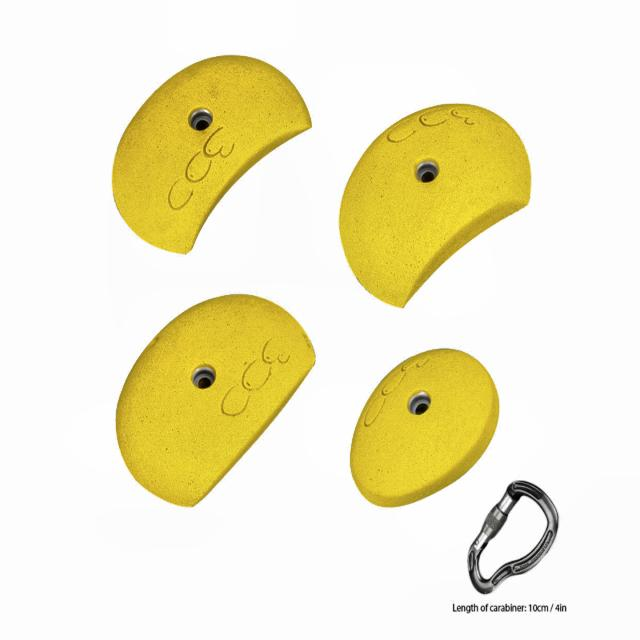Hold: (116, 296, 315, 508), (341, 104, 531, 309), (111, 56, 310, 250), (349, 350, 499, 506)
